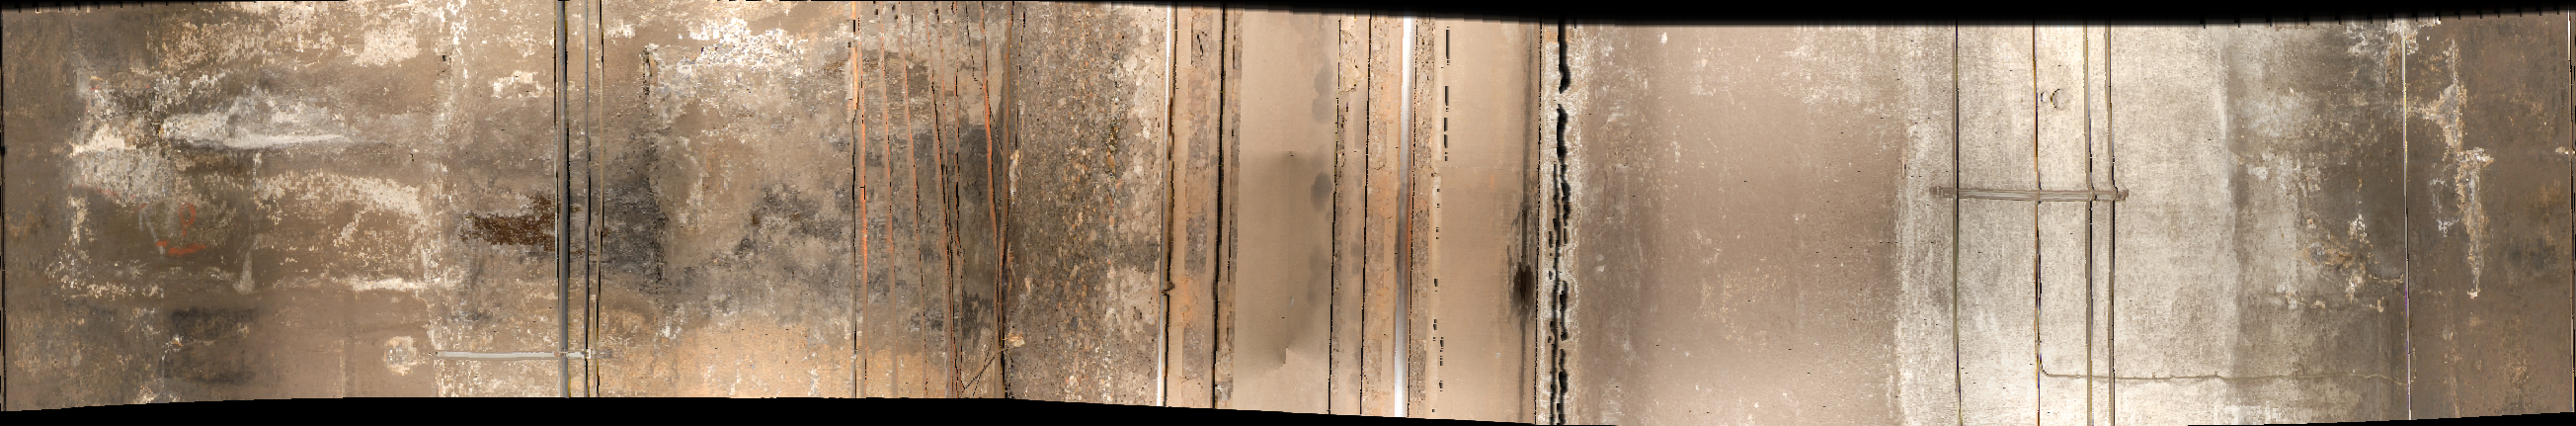pipes: (547, 2, 606, 405), (2080, 23, 2129, 426), (2394, 16, 2426, 426), (1948, 16, 1973, 426), (2031, 21, 2052, 426)
tracks: (1165, 8, 1575, 426)
